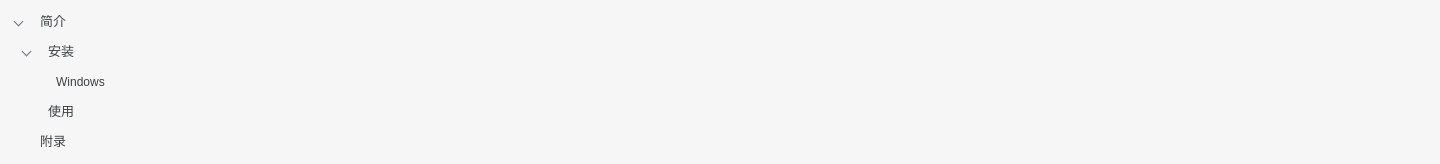
Test: Outline › 折叠标题时隐藏其全部后代，并保留下一个同级标题
What coordinates should you click on to do the following:
click the button named "折叠“简介”"
I would click on:
 (19, 22)
Its box is [8,11,30,33].
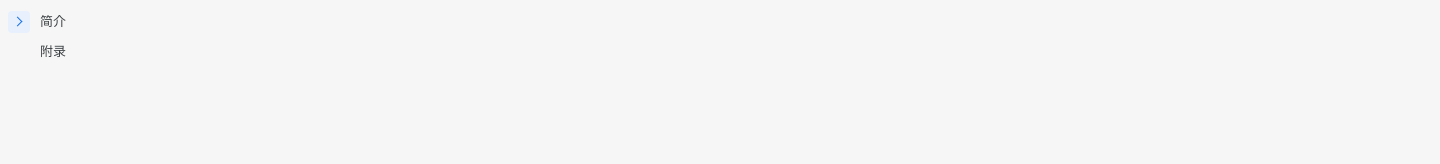
Expected: the button "安装" is gone
Expected: the button "Windows" is gone
Expected: the button "使用" is gone
